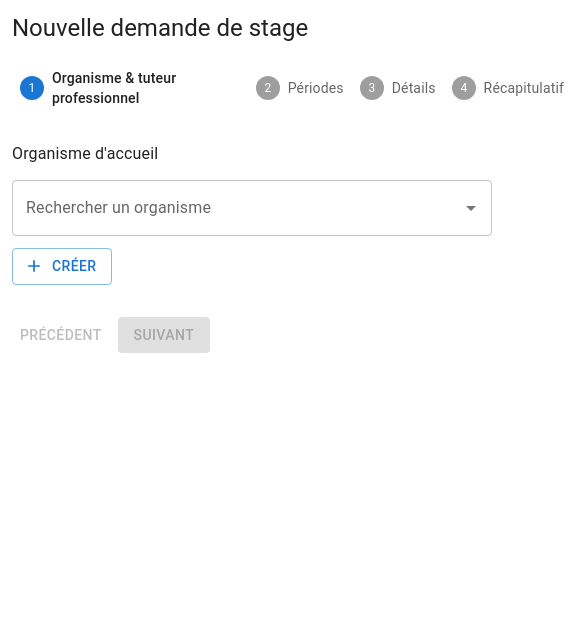
Scenario: NewStagePage › lets the student back out of the new-organism form with Précédent (and keeps it disabled when nothing is open)
Expected: the button "Précédent" is disabled, 12,316 -> 110,353
Click the button with aria-label "Créer un organisme" at coordinates (62, 266), box 12,248 -> 112,284
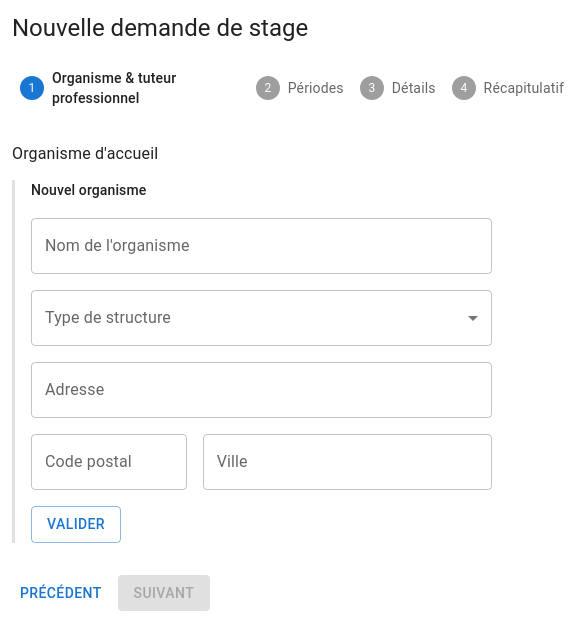
Now the field labelled "Nom de l'organisme" is shown, box 31,218 -> 492,274
Now the button "Précédent" is enabled
Click the button "Précédent" at coordinates (61, 593), box 12,574 -> 110,611
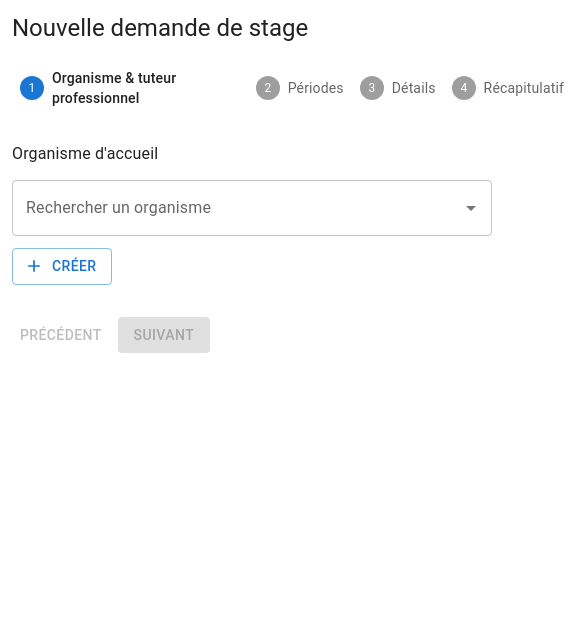
Now the label labelled "Nom de l'organisme" is gone
Now the dropdown labelled "Rechercher un organisme" is shown, box 21,189 -> 453,227
Now the button "Précédent" is disabled, box 12,316 -> 110,353
